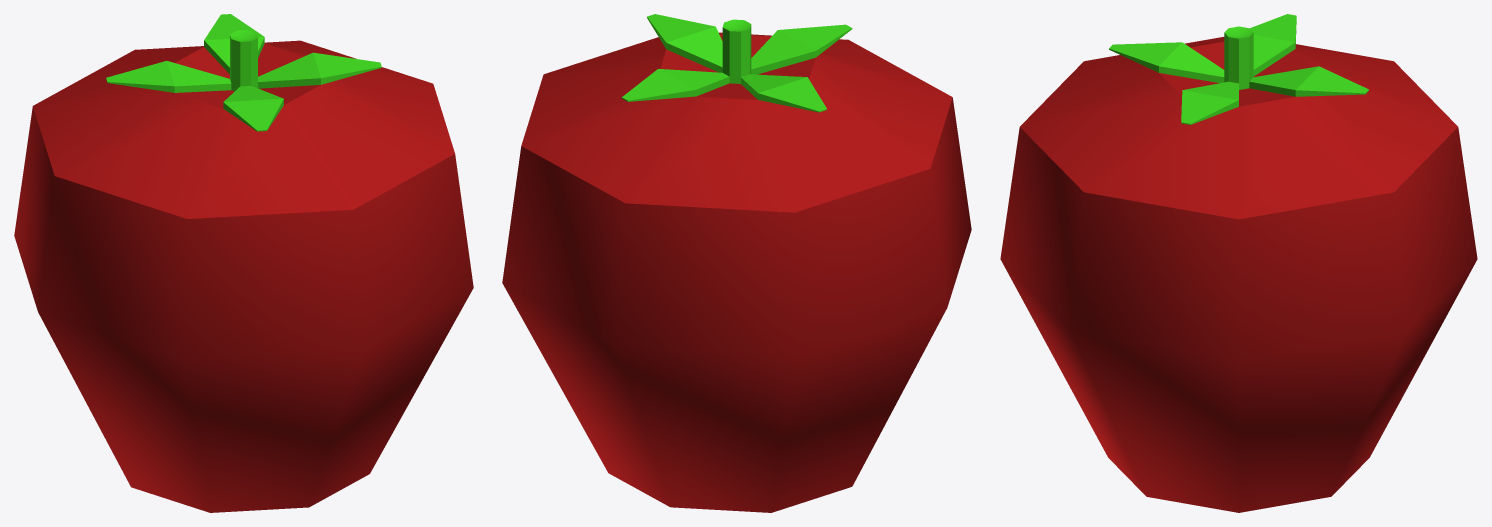
The model's file is Produce_Tomapple.glb.
3 renders of one model, left to right at view 1: azimuth 30°, elevation 25°; view 2: azimuth 150°, elevation 25°; view 3: azimuth 270°, elevation 25°, orthographic. The views are drawn at different scales.
Parts seen in each view (by area): view 1: Sphere001; view 2: Sphere001; view 3: Sphere001.
Boxes of the visible parts, x1,y1,x2,y2 form: Sphere001: (14,14,473,512); Sphere001: (502,14,971,512); Sphere001: (1000,14,1477,512).
Size of the model in its own units: 0.1441 by 0.1417 by 0.1441.
